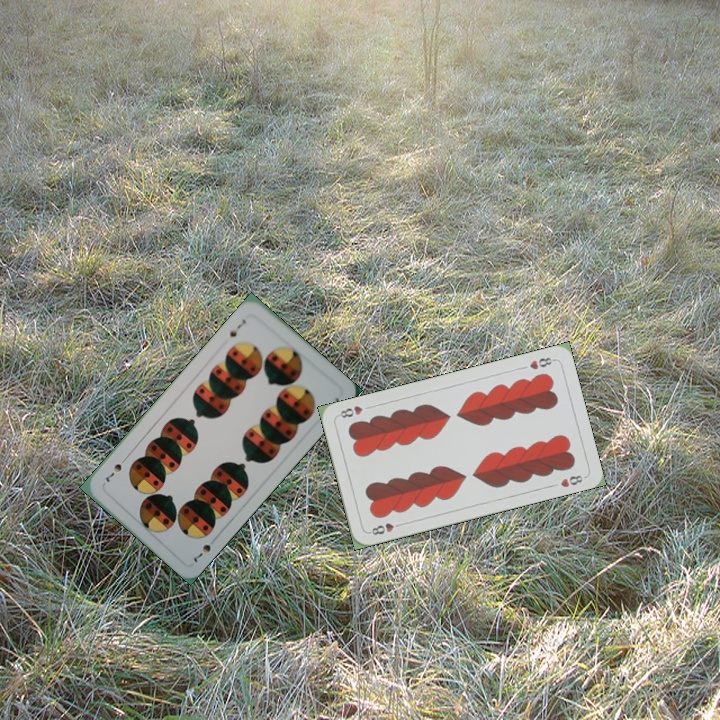H8: (365, 519, 405, 538), (525, 353, 557, 372)
S7: (189, 540, 214, 566), (225, 315, 249, 340)
